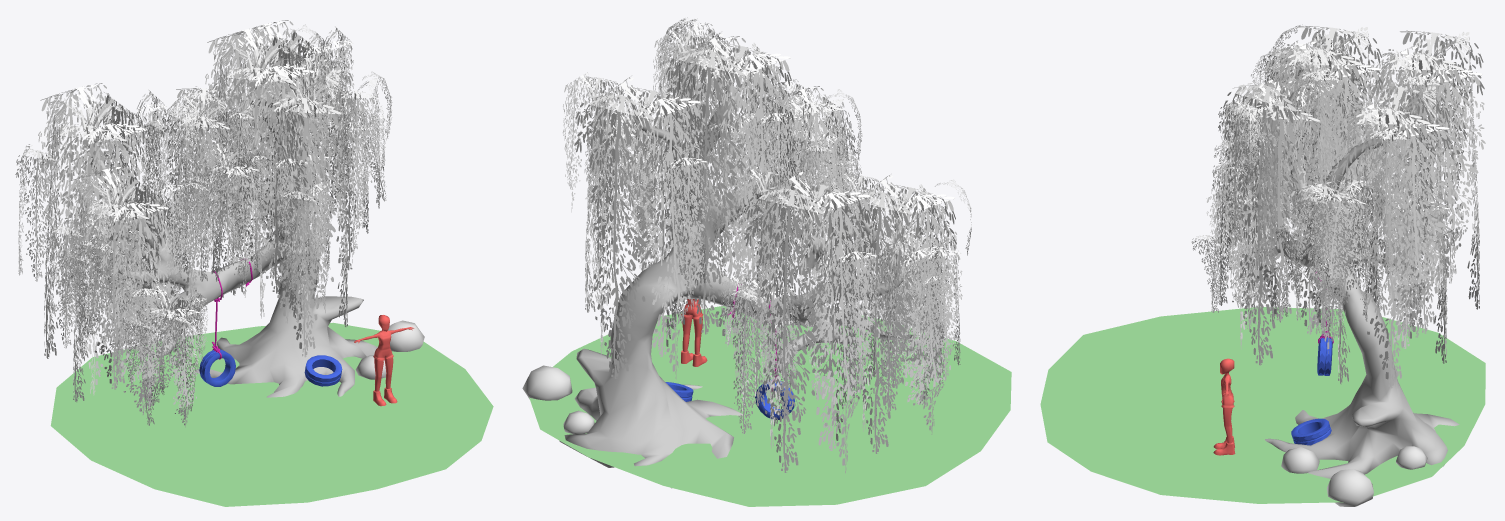
File: garden scenev2.fbx
The picture shows the model from 3 angles, left to right: view 1: azimuth 30°, elevation 25°; view 2: azimuth 150°, elevation 25°; view 3: azimuth 270°, elevation 25°; orthographic projection. The views are drawn at different scales.
Visible parts, largest first — view 1: ground, low poly, leave base.117, leave base.029, leave base.025, leave base.010, leave base.014, leave base.001, leave base.121, leave base.105, leave base.026, leave base.017 (+66 smaller); view 2: ground, low poly, leave base.049, leave base.014, leave base.003, leave base.015, leave base.050, leave base.026, leave base.002, leave base.027, leave base.004, leave base.119 (+58 smaller); view 3: ground, low poly, leave base.051, leave base.120, leave base.122, leave base.053, leave base.018, leave base.050, leave base.016, leave base.005, rocks, leave base.015 (+46 smaller).
Boxes of the visible parts, <box> form: ground: <box>50,322,493,506</box>; low poly: <box>90,81,377,397</box>; leave base.117: <box>258,97,344,357</box>; leave base.029: <box>73,203,151,389</box>; leave base.025: <box>101,202,171,414</box>; leave base.010: <box>211,66,295,267</box>; leave base.014: <box>37,83,112,331</box>; leave base.001: <box>241,65,317,323</box>; leave base.121: <box>250,90,315,293</box>; leave base.105: <box>167,116,229,301</box>; leave base.026: <box>66,165,134,395</box>; leave base.017: <box>44,124,127,325</box>; ground: <box>529,306,1011,506</box>; low poly: <box>559,94,912,488</box>; leave base.049: <box>574,92,655,378</box>; leave base.014: <box>744,186,825,472</box>; leave base.003: <box>665,48,745,334</box>; leave base.015: <box>800,191,873,473</box>; leave base.050: <box>630,97,703,379</box>; leave base.026: <box>838,189,913,453</box>; leave base.002: <box>793,181,872,450</box>; leave base.027: <box>890,193,957,434</box>; leave base.004: <box>720,52,792,325</box>; leave base.119: <box>677,61,767,345</box>; ground: <box>1040,307,1485,503</box>; low poly: <box>1249,95,1459,478</box>; leave base.051: <box>1340,108,1433,388</box>; leave base.120: <box>1222,82,1297,365</box>; leave base.122: <box>1231,104,1320,321</box>; leave base.053: <box>1367,122,1452,337</box>; leave base.018: <box>1401,68,1485,283</box>; leave base.050: <box>1365,85,1451,348</box>; leave base.016: <box>1375,54,1466,333</box>; leave base.005: <box>1272,49,1364,327</box>; rocks: <box>1281,446,1427,506</box>; leave base.015: <box>1399,30,1484,294</box>.
Bounding box in the file's own units: 2985 × 2734 × 2783.
